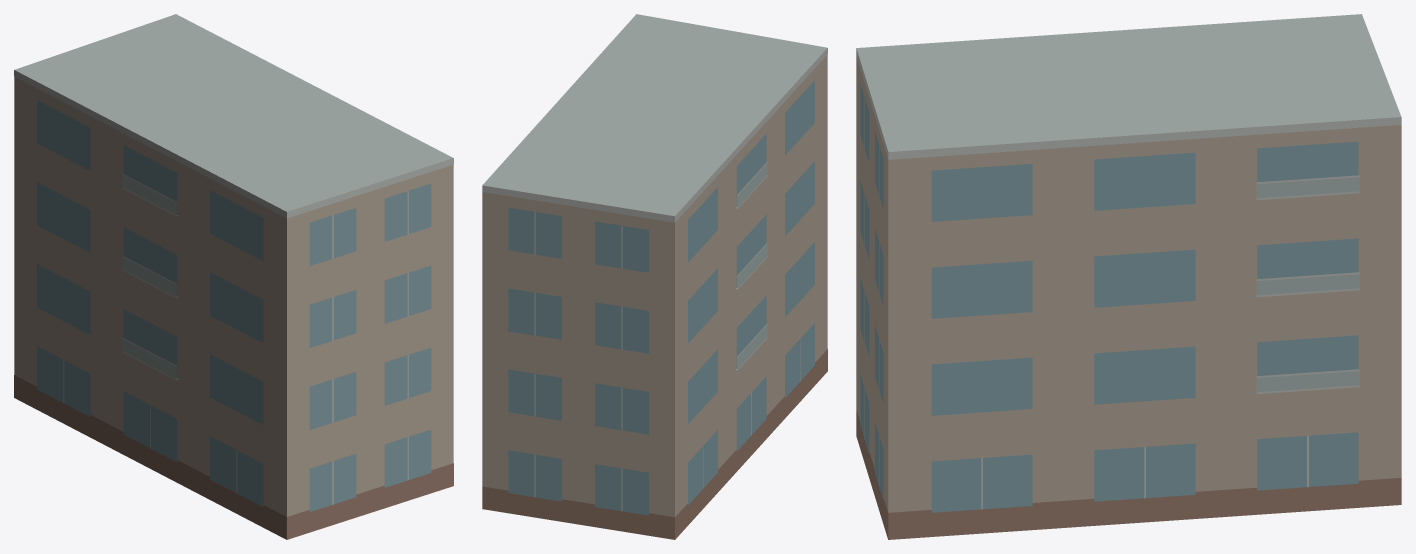
File: survey-upis-32621674.glb
The picture shows the model from 3 angles, left to right: view 1: azimuth 30°, elevation 25°; view 2: azimuth 150°, elevation 25°; view 3: azimuth 270°, elevation 25°; orthographic projection. The views are drawn at different scales.
Visible parts, largest first — view 1: survey-upis-32621674.tmp; view 2: survey-upis-32621674.tmp; view 3: survey-upis-32621674.tmp.
Boxes of the visible parts, x1,y1,x2,y2 form: survey-upis-32621674.tmp: (14, 14, 453, 539); survey-upis-32621674.tmp: (482, 14, 827, 539); survey-upis-32621674.tmp: (856, 14, 1401, 539).
Bounding box in the file's own units: 9.33 × 12.2 × 15.56.
